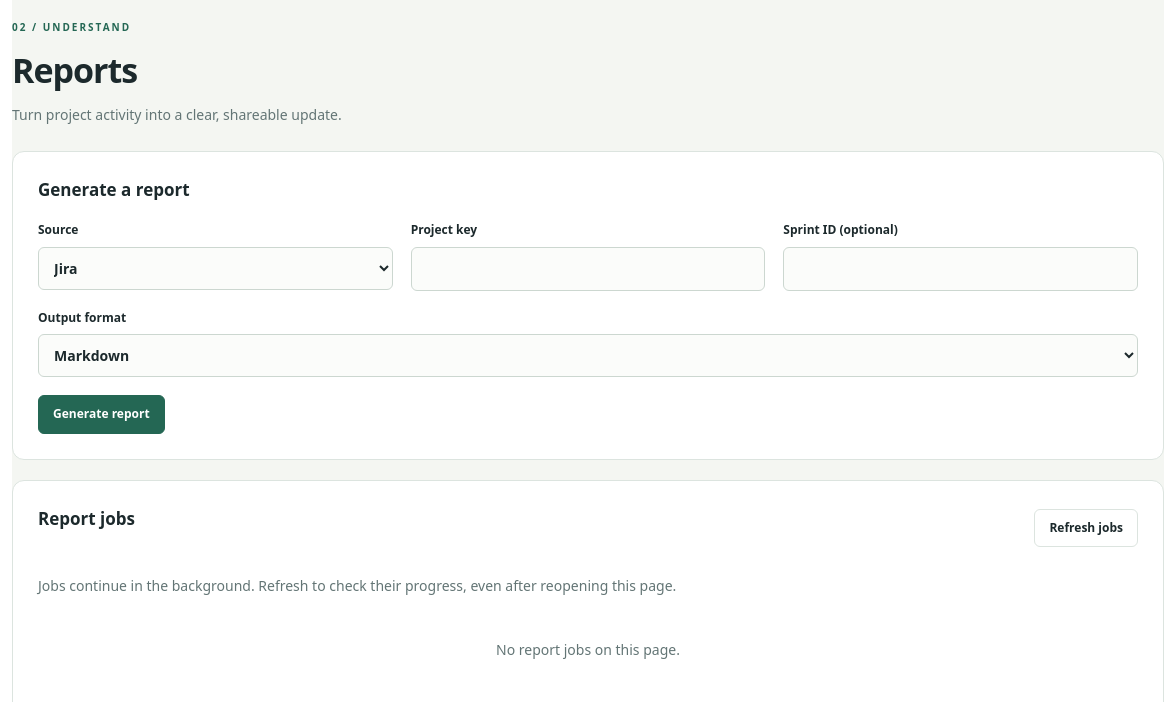
Test: surfaces a failed job's error_reason
Type "DEMO" into the field labelled "Project key" at coordinates (588, 269), box [411,247,765,290]
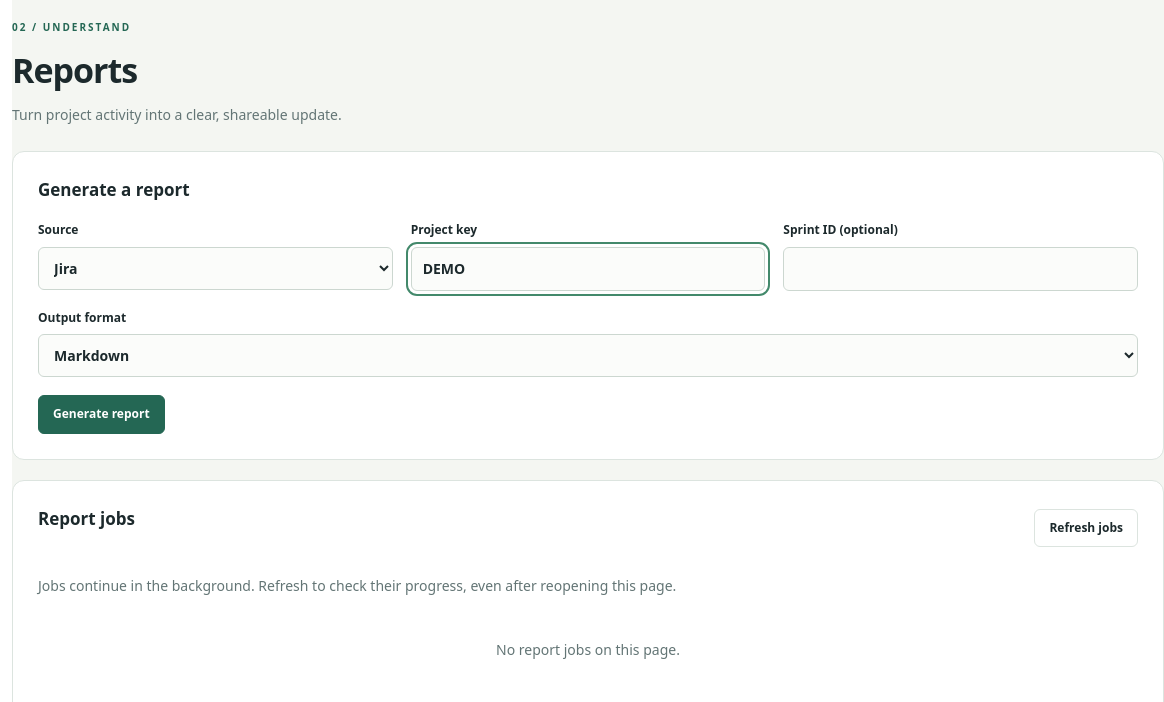
Click the button "Generate report" at coordinates (101, 414), box [38,395,165,434]
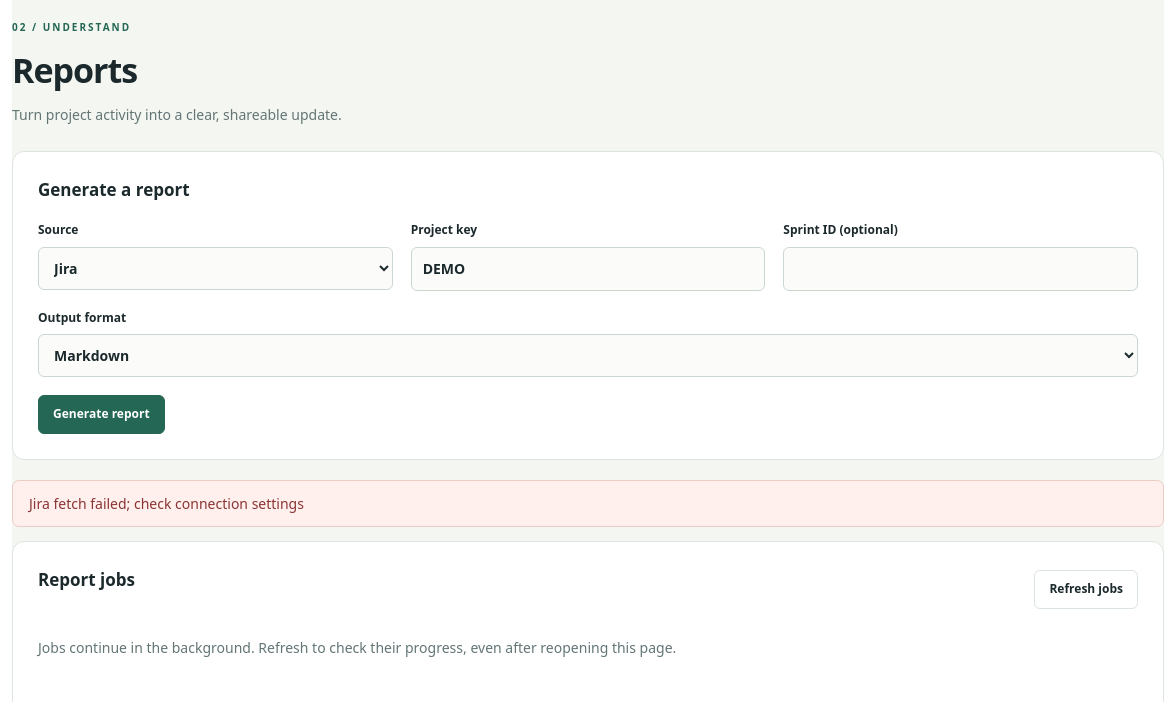
Result: the message reads "Jira fetch failed; check connection settings" at [29,494,304,513]
